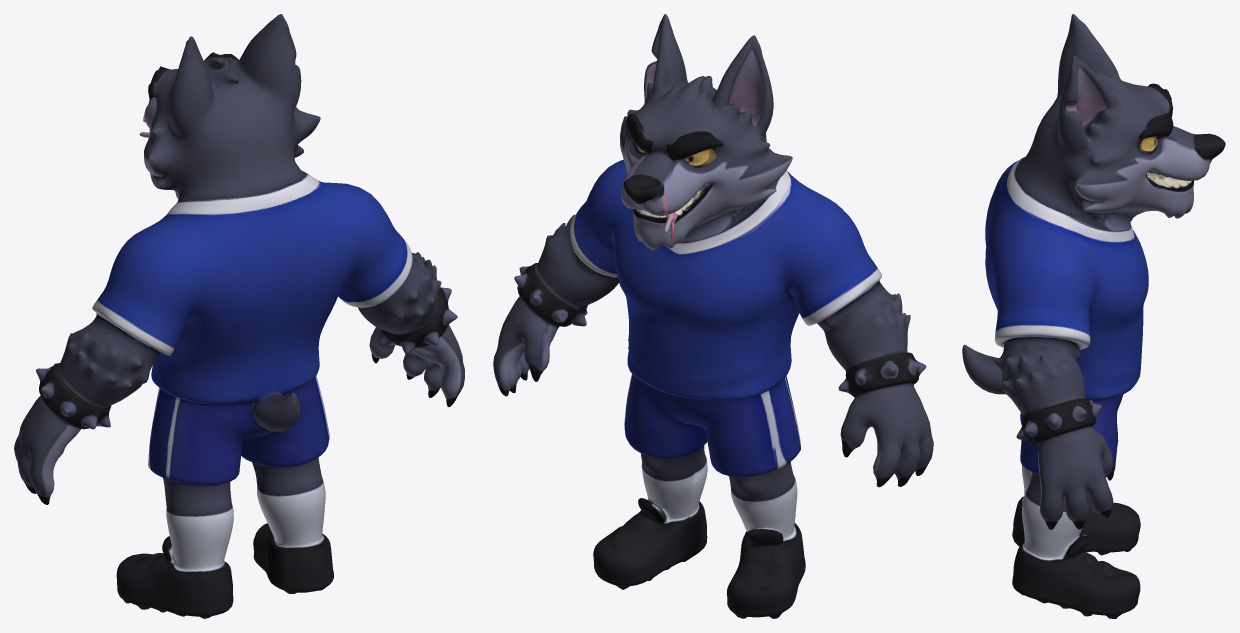
Rendered from perro.glb.
The picture shows the model from 3 angles, left to right: view 1: azimuth 30°, elevation 25°; view 2: azimuth 150°, elevation 25°; view 3: azimuth 270°, elevation 25°; orthographic projection. The views are drawn at different scales.
Visible parts, largest first — view 1: char; view 2: char; view 3: char.
Boxes of the visible parts, x1=… form: char: x1=14, y1=14, x2=464, y2=618; char: x1=493, y1=14, x2=933, y2=618; char: x1=962, y1=14, x2=1225, y2=618.
Bounding box in the file's own units: 1.34 × 1.7 × 0.7442.
Materials: 1 (1 with a texture image).
